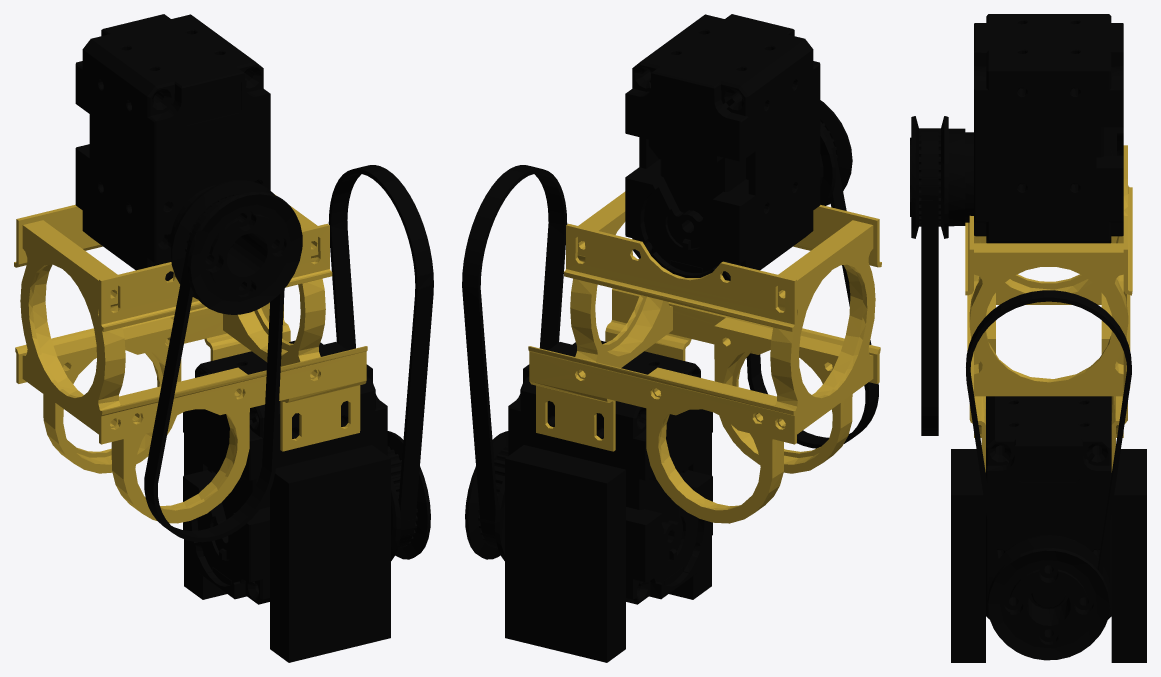
File: roll_link.dae
The picture shows the model from 3 angles, left to right: view 1: azimuth 30°, elevation 25°; view 2: azimuth 150°, elevation 25°; view 3: azimuth 270°, elevation 25°; orthographic projection. The views are drawn at different scales.
Visible parts, largest first — view 1: roll_link_black, roll_link_gold; view 2: roll_link_black, roll_link_gold; view 3: roll_link_black, roll_link_gold.
Part boxes in pixels (x1,y1,x2,y2): roll_link_black: (75, 14, 433, 662); roll_link_gold: (14, 194, 367, 523); roll_link_black: (462, 14, 878, 662); roll_link_gold: (528, 191, 881, 523); roll_link_black: (910, 14, 1146, 662); roll_link_gold: (965, 145, 1132, 472).
Size of the model in its own units: 0.0835 by 0.0537 by 0.138.
